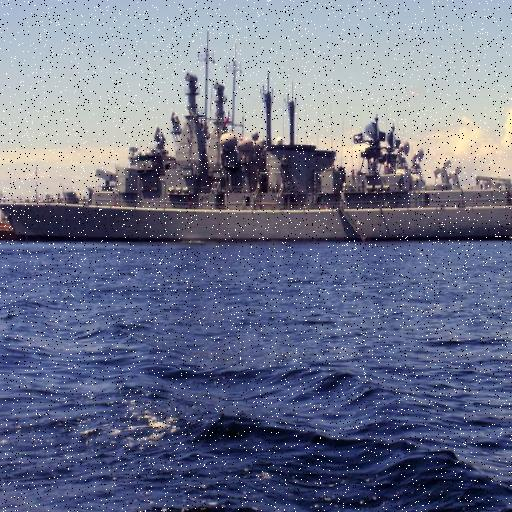Fragata: (1, 41, 512, 246)
